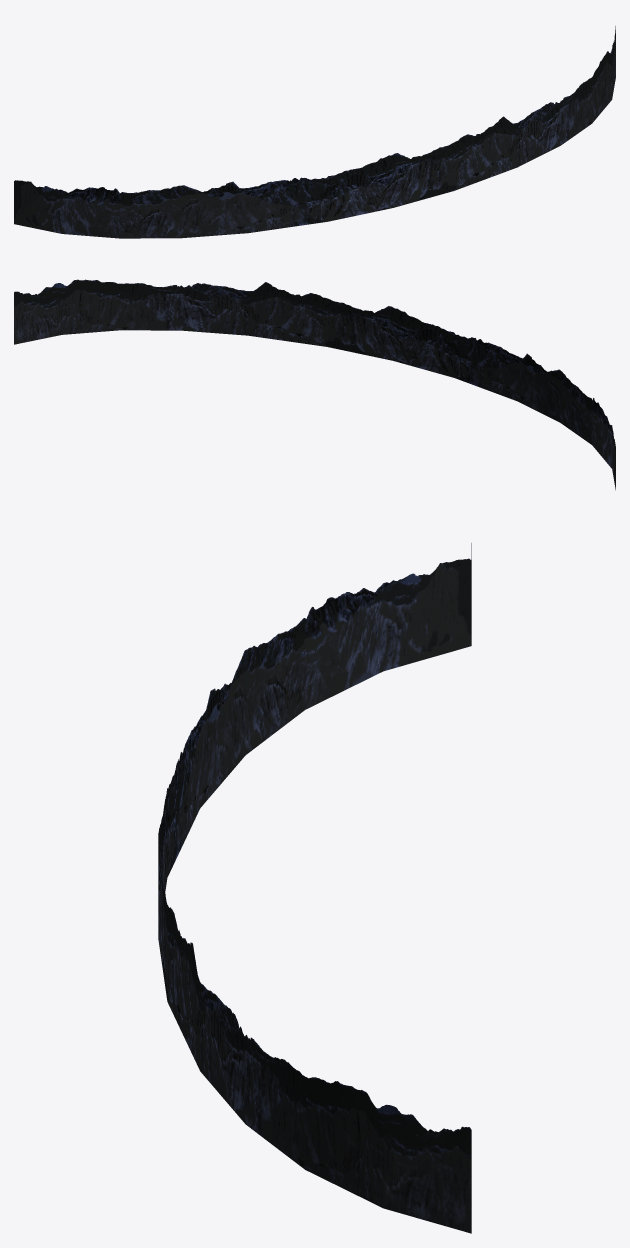
Rendered from snow_vista.FBX.
3 renders of one model, top to bottom at view 1: azimuth 30°, elevation 25°; view 2: azimuth 150°, elevation 25°; view 3: azimuth 270°, elevation 25°, orthographic. The views are drawn at different scales.
Visible parts, largest first — view 1: snow_vista; view 2: snow_vista; view 3: snow_vista.
Part boxes in pixels (x1,y1,x2,y2): snow_vista: [14, 26, 615, 238]; snow_vista: [14, 279, 615, 490]; snow_vista: [158, 543, 471, 1233].
Bounding box in the file's own units: 5458 × 545 × 1229.
